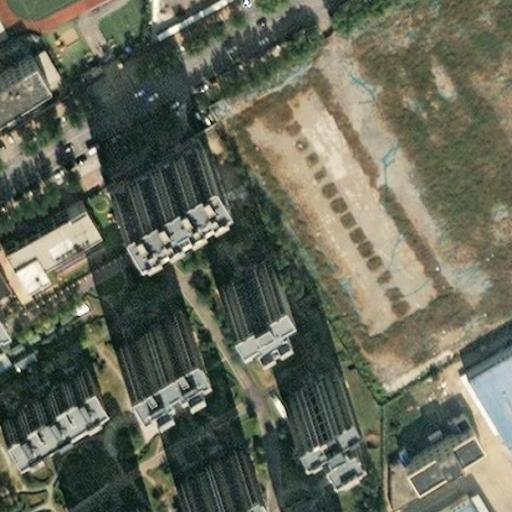building: (0, 191, 106, 285), (91, 126, 199, 203), (0, 355, 98, 429), (166, 434, 245, 498), (104, 302, 183, 366), (390, 410, 471, 470), (268, 357, 334, 419), (204, 243, 268, 294), (0, 48, 38, 97), (422, 487, 490, 512), (30, 39, 65, 82), (9, 341, 42, 370), (106, 492, 152, 512)
